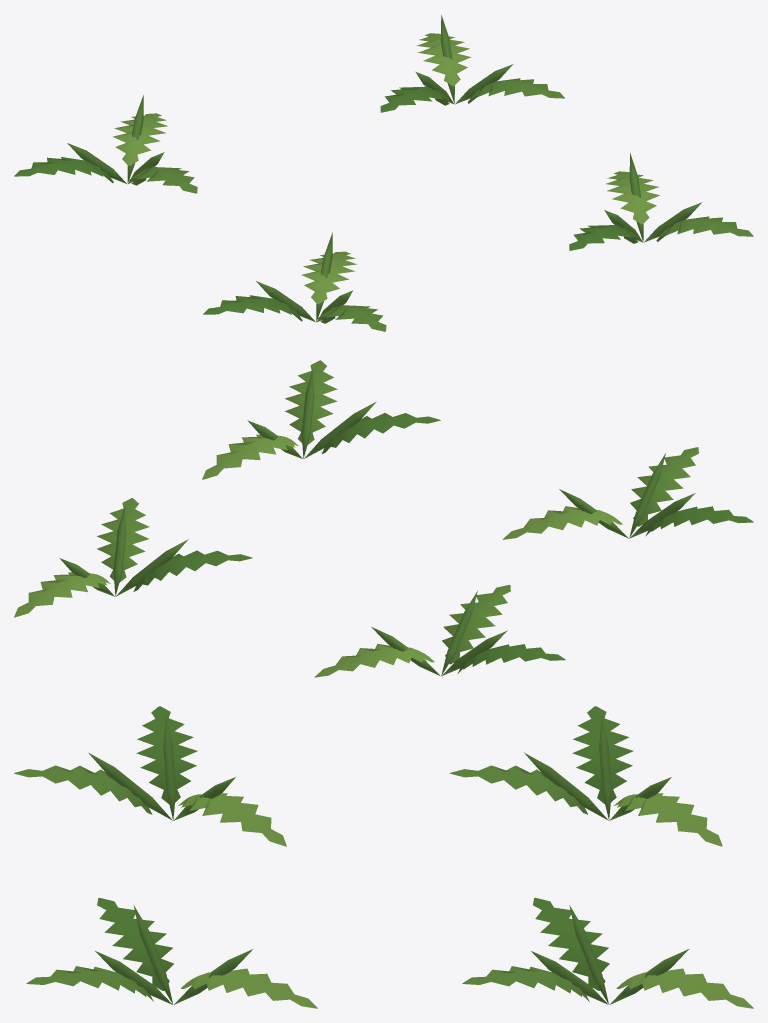
File: crop-cell-vegetable-seedling.gltf
3 views of the same model, one above another, from view 1: azimuth 30°, elevation 25°; view 2: azimuth 150°, elevation 25°; view 3: azimuth 270°, elevation 25° (orthographic). The views are drawn at different scales.
Visible parts, largest first — view 1: crop-cell-vegetable-seedling; view 2: crop-cell-vegetable-seedling; view 3: crop-cell-vegetable-seedling.
Boxes of the visible parts, left/top/right/bottom form: crop-cell-vegetable-seedling: left=14, top=15, right=753, bottom=331; crop-cell-vegetable-seedling: left=14, top=360, right=753, bottom=677; crop-cell-vegetable-seedling: left=14, top=706, right=753, bottom=1008.
Bounding box in the file's own units: 0.4243 × 0.0487 × 0.4755.
